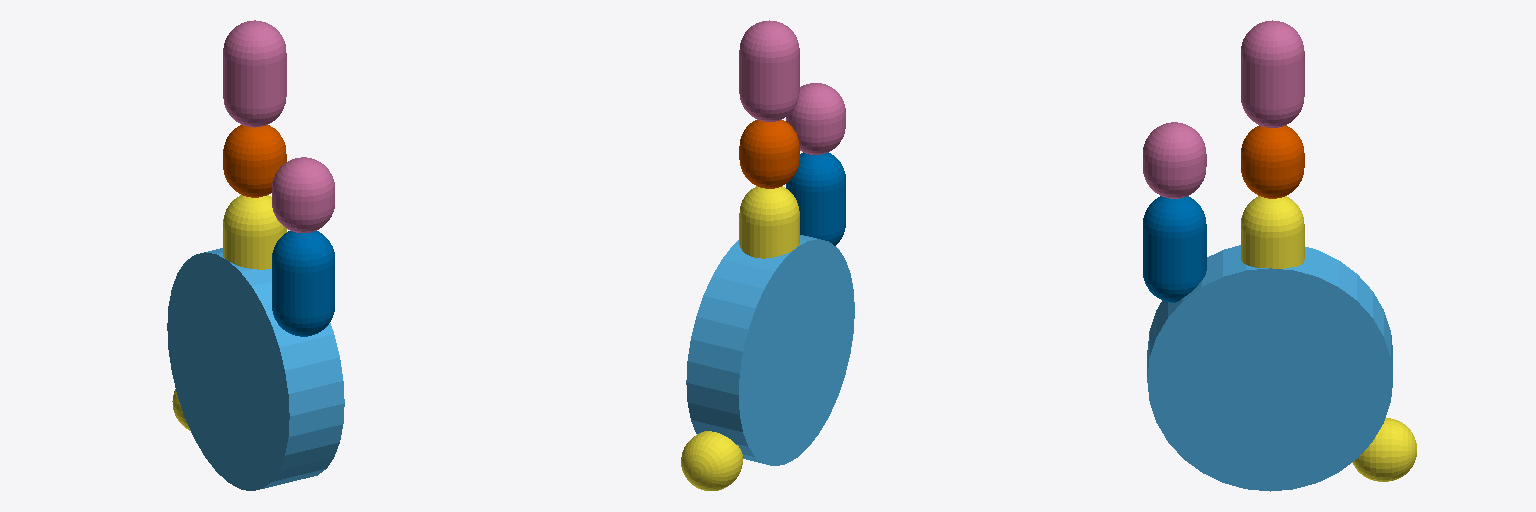
The robot description file, URDF, robot "DexterousHand":
<?xml version="1.0"?>
<robot name="DexterousHand">


    <link name="world"/>
    <joint name="world_to_palm" type="fixed">
        <parent link="world"/>
        <child link="palm"/>
        <origin xyz="0 0 0" rpy="0 0 0"/>
    </joint>
    <link name="palm">
        <inertial>
            <origin xyz="0 0 0.057" rpy="0 0 0"/>
            <mass value="0.30212892864"/>
            <inertia ixx="0.00049080844457568" ixy="0.0" ixz="0.0" iyy="0.00026746366246427523" iyz="0.0" izz="0.00026746366246427523"/>
        </inertial>
        <visual>
            <origin xyz="0 0 0.057" rpy="1.5708 0 1.5708"/>
            <geometry>
                <cylinder radius="0.057" length="0.0296"/>
            </geometry>
            <material name="default"/>
        </visual>
        <collision>
            <origin xyz="0 0 0.057" rpy="1.5708 0 1.5708"/>
            <geometry>
                <cylinder radius="0.057" length="0.0296"/>
            </geometry>
        </collision>
    </link>

    
    <joint name="thumb_joint1" type="revolute">
        <parent link="palm"/>
        <child link="thumb_base"/>
        <origin xyz="0.0029 0.0368 0.0157" rpy="-1.5708 -1.5708 0.0"/>
        <axis xyz="-1 0 0"/>
        <limit lower="-0.349" upper="2.094" effort="1.0" velocity="1.0"/>
    </joint>

    <link name="thumb_base"></link>

    <joint name="thumb_joint2" type="revolute">
        <parent link="thumb_base"/>
        <child link="thumb_proximal"/>
        <origin xyz="0.0 0.0 0.0" rpy="0.0 0.0 0.0"/>
        <axis xyz="0 0 1"/>
        <limit lower="-0.47" upper="2.443" effort="1.0" velocity="1.0"/>
    </joint>

    <link name="thumb_proximal">
        <inertial>
            <origin xyz="0 0 0.01565" rpy="0 0 0"/>
            <mass value="0.021538658803200002"/>
            <inertia ixx="2.9378910096388167e-06" ixy="0.0" ixz="0.0" 
            iyy="2.9378910096388167e-06" iyz="0.0" izz="2.358913912126464e-06"/>
        </inertial>
        <visual>
            <origin xyz="0 0 0.01565" rpy="0 0 0"/>
            <geometry>
                <cylinder radius="0.0148" length="0.0017000000000000001"/>
            </geometry>
            <material name="default"/>
        </visual>
        <visual>
            <origin xyz="0 0 0.0148" rpy="0 0 0"/>
            <geometry>
                <sphere radius="0.0148"/>
            </geometry>
            <material name="default"/>
        </visual>
        <visual>
            <origin xyz="0 0 0.0165" rpy="0 0 0"/>
            <geometry>
                <sphere radius="0.0148"/>
            </geometry>
            <material name="default"/>
        </visual>
        <collision>
            <origin xyz="0 0 0.01565" rpy="0 0 0"/>
            <geometry>
                <cylinder radius="0.0148" length="0.0017000000000000001"/>
            </geometry>
        </collision>
        <collision>
            <origin xyz="0 0 0.0148" rpy="0 0 0"/>
            <geometry>
                <sphere radius="0.0148"/>
            </geometry>
        </collision>
        <collision>
            <origin xyz="0 0 0.0165" rpy="0 0 0"/>
            <geometry>
                <sphere radius="0.0148"/>
            </geometry>
        </collision>
    </link>

    <joint name="thumb_joint3" type="revolute">
        <parent link="thumb_proximal"/>
        <child link="thumb_knuckle"/>
        <origin xyz="0.0 0.0 0.0" rpy="0.0 0.0 0.0"/>
        <axis xyz="1 0 0"/>
        <limit lower="0.0" upper="0.0" effort="1.0" velocity="1.0"/>
    </joint>

    <link name="thumb_knuckle"></link>

    <joint name="thumb_joint4" type="revolute">
        <parent link="thumb_knuckle"/>
        <child link="thumb_middle"/>
        <origin xyz="0 0 0" rpy="0 0 0"/> 
        <axis xyz="0 1 0"/>
        <limit lower="0.0" upper="0.0" effort="1.0" velocity="1.0"/>
    </joint>

    <link name="thumb_middle">
    </link>

    <joint name="thumb_joint5" type="revolute">
        <parent link="thumb_middle"/>
        <child link="thumb_distal"/>
        <origin xyz="0 0 0" rpy="0 0 0"/> 
        <axis xyz="0 1 0"/>
        <limit lower="0.0" upper="0.0" effort="1.0" velocity="1.0"/>
    </joint>

    <link name="thumb_distal">
    </link>

    
    <joint name="index_joint1" type="revolute">
        <parent link="palm"/>
        <child link="index_proximal"/>
        <origin xyz="0.0 0.0 0.0" rpy="0.0 0.0 0.0"/>
        <axis xyz="1 0 0"/>
        <limit lower="0.0" upper="0.0" effort="1.0" velocity="1.0"/>
    </joint>

    <link name="index_proximal">
    </link>

    <joint name="index_joint2" type="revolute">
        <parent link="index_proximal"/>
        <child link="index_dummy"/>
        <origin xyz="0.0 0.0 0.0" rpy="0.0 0.0 0.0"/>
        <axis xyz="0 1 0"/>
        <limit lower="0.0" upper="0.0" effort="1.0" velocity="1.0"/>
    </joint>

    <link name="index_dummy"></link>

    <joint name="index_joint3" type="revolute">
        <parent link="index_dummy"/>
        <child link="index_middle"/>
        <origin xyz="0 0 0" rpy="0 0 0"/>
        <axis xyz="0 1 0"/>
        <limit lower="0.0" upper="0.0" effort="1.0" velocity="1.0"/>
    </joint>

    <link name="index_middle">
    </link>

    <joint name="index_joint4" type="revolute">
        <parent link="index_middle"/>
        <child link="index_distal"/>
        <origin xyz="0 0 0" rpy="0 0 0"/> 
        <axis xyz="0 1 0"/>
        <limit lower="0.0" upper="0.0" effort="1.0" velocity="1.0"/>
    </joint>

    <link name="index_distal">
    </link>

    
    <joint name="middle_joint1" type="revolute">
        <parent link="palm"/>
        <child link="middle_proximal"/>
        <origin xyz="0.0 0.0011 0.091" rpy="0.0 0.0 0.0"/>
        <axis xyz="0 1 0"/>
        <limit lower="-0.314" upper="2.23" effort="1.0" velocity="1.0"/>
    </joint>

    <link name="middle_proximal">
        <inertial>
            <origin xyz="0 0 0.02655" rpy="0 0 0"/>
            <mass value="0.036540024998400006"/>
            <inertia ixx="1.058665009272394e-05" ixy="0.0" ixz="0.0" 
            iyy="1.058665009272394e-05" iyz="0.0" izz="4.001863537824769e-06"/>
        </inertial>
        <visual>
            <origin xyz="0 0 0.02655" rpy="0 0 0"/>
            <geometry>
                <cylinder radius="0.0148" length="0.0235"/>
            </geometry>
            <material name="default"/>
        </visual>
        <visual>
            <origin xyz="0 0 0.0148" rpy="0 0 0"/>
            <geometry>
                <sphere radius="0.0148"/>
            </geometry>
            <material name="default"/>
        </visual>
        <visual>
            <origin xyz="0 0 0.0383" rpy="0 0 0"/>
            <geometry>
                <sphere radius="0.0148"/>
            </geometry>
            <material name="default"/>
        </visual>
        <collision>
            <origin xyz="0 0 0.02655" rpy="0 0 0"/>
            <geometry>
                <cylinder radius="0.0148" length="0.0235"/>
            </geometry>
        </collision>
        <collision>
            <origin xyz="0 0 0.0148" rpy="0 0 0"/>
            <geometry>
                <sphere radius="0.0148"/>
            </geometry>
        </collision>
        <collision>
            <origin xyz="0 0 0.0383" rpy="0 0 0"/>
            <geometry>
                <sphere radius="0.0148"/>
            </geometry>
        </collision>
    </link>

    <joint name="middle_joint2" type="revolute">
        <parent link="middle_proximal"/>
        <child link="middle_dummy"/>
        <origin xyz="0.0 0.0 0.038" rpy="0.0 0.0 0.0"/>
        <axis xyz="1 0 0"/>
        <limit lower="-1.047" upper="1.047" effort="1.0" velocity="1.0"/>
    </joint>

    <link name="middle_dummy"></link>

    <joint name="middle_joint3" type="revolute">
        <parent link="middle_dummy"/>
        <child link="middle_middle"/>
        <origin xyz="0 0 0.015100000000000002" rpy="0 0 0"/>
        <axis xyz="0 1 0"/>
        <limit lower="-0.506" upper="1.885" effort="1.0" velocity="1.0"/>
    </joint>

    <link name="middle_middle">
        <inertial>
            <origin xyz="0 0 0.01805" rpy="0 0 0"/>
            <mass value="0.0248417119104"/>
            <inertia ixx="4.058162759109537e-06" ixy="0.0" ixz="0.0" 
            iyy="4.058162759109537e-06" iyz="0.0" izz="2.7206642884270085e-06"/>
        </inertial>
        <visual>
            <origin xyz="0 0 0.01805" rpy="0 0 0"/>
            <geometry>
                <cylinder radius="0.0148" length="0.006499999999999999"/>
            </geometry>
            <material name="default"/>
        </visual>
        <visual>
            <origin xyz="0 0 0.0148" rpy="0 0 0"/>
            <geometry>
                <sphere radius="0.0148"/>
            </geometry>
            <material name="default"/>
        </visual>
        <visual>
            <origin xyz="0 0 0.0213" rpy="0 0 0"/>
            <geometry>
                <sphere radius="0.0148"/>
            </geometry>
            <material name="default"/>
        </visual>
        <collision>
            <origin xyz="0 0 0.01805" rpy="0 0 0"/>
            <geometry>
                <cylinder radius="0.0148" length="0.006499999999999999"/>
            </geometry>
        </collision>
        <collision>
            <origin xyz="0 0 0.0148" rpy="0 0 0"/>
            <geometry>
                <sphere radius="0.0148"/>
            </geometry>
        </collision>
        <collision>
            <origin xyz="0 0 0.0213" rpy="0 0 0"/>
            <geometry>
                <sphere radius="0.0148"/>
            </geometry>
        </collision>
    </link>

    <joint name="middle_joint4" type="revolute">
        <parent link="middle_middle"/>
        <child link="middle_distal"/>
        <origin xyz="0 0 0.0361" rpy="0 0 0"/> 
        <axis xyz="0 1 0"/>
        <limit lower="-0.366" upper="2.042" effort="1.0" velocity="1.0"/>
    </joint>

    <link name="middle_distal">
        <inertial>
            <origin xyz="0 0 0.026" rpy="0 0 0"/>
            <mass value="0.035783075328"/>
            <inertia ixx="1.002260084553728e-05" ixy="0.0" ixz="0.0" 
            iyy="1.002260084553728e-05" iyz="0.0" izz="3.91896240992256e-06"/>
        </inertial>
        <visual>
            <origin xyz="0 0 0.026" rpy="0 0 0"/>
            <geometry>
                <cylinder radius="0.0148" length="0.022399999999999996"/>
            </geometry>
            <material name="default"/>
        </visual>
        <visual>
            <origin xyz="0 0 0.0148" rpy="0 0 0"/>
            <geometry>
                <sphere radius="0.0148"/>
            </geometry>
            <material name="default"/>
        </visual>
        <visual>
            <origin xyz="0 0 0.0372" rpy="0 0 0"/>
            <geometry>
                <sphere radius="0.0148"/>
            </geometry>
            <material name="default"/>
        </visual>
        <collision>
            <origin xyz="0 0 0.026" rpy="0 0 0"/>
            <geometry>
                <cylinder radius="0.0148" length="0.022399999999999996"/>
            </geometry>
        </collision>
        <collision>
            <origin xyz="0 0 0.0148" rpy="0 0 0"/>
            <geometry>
                <sphere radius="0.0148"/>
            </geometry>
        </collision>
        <collision>
            <origin xyz="0 0 0.0372" rpy="0 0 0"/>
            <geometry>
                <sphere radius="0.0148"/>
            </geometry>
        </collision>
    </link>

    
    <joint name="ring_joint1" type="revolute">
        <parent link="palm"/>
        <child link="ring_proximal"/>
        <origin xyz="0.0 0.0 0.0" rpy="0.0 0.0 0.0"/>
        <axis xyz="1 0 0"/>
        <limit lower="0.0" upper="0.0" effort="1.0" velocity="1.0"/>
    </joint>

    <link name="ring_proximal">
    </link>

    <joint name="ring_joint2" type="revolute">
        <parent link="ring_proximal"/>
        <child link="ring_dummy"/>
        <origin xyz="0.0 0.0 0.0" rpy="0.0 0.0 0.0"/>
        <axis xyz="0 1 0"/>
        <limit lower="0.0" upper="0.0" effort="1.0" velocity="1.0"/>
    </joint>

    <link name="ring_dummy"></link>

    <joint name="ring_joint3" type="revolute">
        <parent link="ring_dummy"/>
        <child link="ring_middle"/>
        <origin xyz="0 0 0" rpy="0 0 0"/>
        <axis xyz="0 1 0"/>
        <limit lower="0.0" upper="0.0" effort="1.0" velocity="1.0"/>
    </joint>

    <link name="ring_middle">
    </link>

    <joint name="ring_joint4" type="revolute">
        <parent link="ring_middle"/>
        <child link="ring_distal"/>
        <origin xyz="0 0 0" rpy="0 0 0"/> 
        <axis xyz="0 1 0"/>
        <limit lower="0.0" upper="0.0" effort="1.0" velocity="1.0"/>
    </joint>

    <link name="ring_distal">
    </link>

    
    <joint name="little_joint0" type="revolute">
        <parent link="palm"/>
        <child link="little_base"/>
        <origin xyz="0.0 0.0 0.0" rpy="0.0 0.0 0.0"/>
        <axis xyz="0 1 0"/>
        <limit lower="0.0" upper="0.0" effort="1.0" velocity="1.0"/>
    </joint>

    <link name="little_base"></link>

    <joint name="little_joint1" type="revolute">
        <parent link="little_base"/>
        <child link="little_proximal"/>
        <origin xyz="0.0 -0.0443 0.091" rpy="-0.0 -0.0 -0.0"/>
        <axis xyz="0 1 0"/>
        <limit lower="-0.314" upper="2.23" effort="1.0" velocity="1.0"/>
    </joint>

    <link name="little_proximal">
        <inertial>
            <origin xyz="0 0 0.02655" rpy="0 0 0"/>
            <mass value="0.036540024998400006"/>
            <inertia ixx="1.058665009272394e-05" ixy="0.0" ixz="0.0" 
            iyy="1.058665009272394e-05" iyz="0.0" izz="4.001863537824769e-06"/>
        </inertial>
        <visual>
            <origin xyz="0 0 0.02655" rpy="0 0 0"/>
            <geometry>
                <cylinder radius="0.0148" length="0.0235"/>
            </geometry>
            <material name="default"/>
        </visual>
        <visual>
            <origin xyz="0 0 0.0148" rpy="0 0 0"/>
            <geometry>
                <sphere radius="0.0148"/>
            </geometry>
            <material name="default"/>
        </visual>
        <visual>
            <origin xyz="0 0 0.0383" rpy="0 0 0"/>
            <geometry>
                <sphere radius="0.0148"/>
            </geometry>
            <material name="default"/>
        </visual>
        <collision>
            <origin xyz="0 0 0.02655" rpy="0 0 0"/>
            <geometry>
                <cylinder radius="0.0148" length="0.0235"/>
            </geometry>
        </collision>
        <collision>
            <origin xyz="0 0 0.0148" rpy="0 0 0"/>
            <geometry>
                <sphere radius="0.0148"/>
            </geometry>
        </collision>
        <collision>
            <origin xyz="0 0 0.0383" rpy="0 0 0"/>
            <geometry>
                <sphere radius="0.0148"/>
            </geometry>
        </collision>
    </link>

    <joint name="little_joint2" type="revolute">
        <parent link="little_proximal"/>
        <child link="little_dummy"/>
        <origin xyz="0.0 0.0 0.038" rpy="0.0 0.0 0.0"/>
        <axis xyz="1 0 0"/>
        <limit lower="-1.047" upper="1.047" effort="1.0" velocity="1.0"/>
    </joint>

    <link name="little_dummy"></link>

    <joint name="little_joint3" type="revolute">
        <parent link="little_dummy"/>
        <child link="little_middle"/>
        <origin xyz="0 0 0.015100000000000002" rpy="0 0 0"/>
        <axis xyz="0 1 0"/>
        <limit lower="-0.506" upper="1.885" effort="1.0" velocity="1.0"/>
    </joint>

    <link name="little_middle">
        <inertial>
            <origin xyz="0 0 0.01805" rpy="0 0 0"/>
            <mass value="0.0248417119104"/>
            <inertia ixx="4.058162759109537e-06" ixy="0.0" ixz="0.0" 
            iyy="4.058162759109537e-06" iyz="0.0" izz="2.7206642884270085e-06"/>
        </inertial>
        <visual>
            <origin xyz="0 0 0.01805" rpy="0 0 0"/>
            <geometry>
                <cylinder radius="0.0148" length="0.006499999999999999"/>
            </geometry>
            <material name="default"/>
        </visual>
        <visual>
            <origin xyz="0 0 0.0148" rpy="0 0 0"/>
            <geometry>
                <sphere radius="0.0148"/>
            </geometry>
            <material name="default"/>
        </visual>
        <visual>
            <origin xyz="0 0 0.0213" rpy="0 0 0"/>
            <geometry>
                <sphere radius="0.0148"/>
            </geometry>
            <material name="default"/>
        </visual>
        <collision>
            <origin xyz="0 0 0.01805" rpy="0 0 0"/>
            <geometry>
                <cylinder radius="0.0148" length="0.006499999999999999"/>
            </geometry>
        </collision>
        <collision>
            <origin xyz="0 0 0.0148" rpy="0 0 0"/>
            <geometry>
                <sphere radius="0.0148"/>
            </geometry>
        </collision>
        <collision>
            <origin xyz="0 0 0.0213" rpy="0 0 0"/>
            <geometry>
                <sphere radius="0.0148"/>
            </geometry>
        </collision>
    </link>

    <joint name="little_joint4" type="revolute">
        <parent link="little_middle"/>
        <child link="little_distal"/>
        <origin xyz="0 0 0.0361" rpy="0 0 0"/>
        <axis xyz="0 1 0"/>
        <limit lower="0.0" upper="0.0" effort="1.0" velocity="1.0"/>
    </joint>

    <link name="little_distal">
    </link>

</robot>

--- What the picture shows (computed from the rendered views, not written in the file) ---
3 views of the same robot in one strip: view 1: azimuth 30°, elevation 25°; view 2: azimuth 150°, elevation 25°; view 3: azimuth 270°, elevation 25° (orthographic).
Robot: DexterousHand — 24 links, 23 joints (22 revolute, 1 fixed); root link world; default pose: every joint at zero.
Visible links, largest first — view 1: palm, middle_distal, little_proximal, little_middle, middle_middle, middle_proximal; view 2: palm, middle_distal, little_proximal, middle_proximal, middle_middle, little_middle, thumb_proximal; view 3: palm, middle_distal, little_proximal, middle_proximal, little_middle, middle_middle, thumb_proximal.
Boxes of the visible links, left/top/right/bottom form: palm: left=167, top=248, right=344, bottom=490; middle_distal: left=223, top=20, right=286, bottom=127; little_proximal: left=272, top=231, right=334, bottom=336; little_middle: left=272, top=157, right=334, bottom=232; middle_middle: left=223, top=125, right=286, bottom=197; middle_proximal: left=223, top=195, right=286, bottom=269; palm: left=686, top=235, right=854, bottom=465; middle_distal: left=739, top=20, right=799, bottom=121; little_proximal: left=786, top=152, right=845, bottom=245; middle_proximal: left=739, top=186, right=799, bottom=258; middle_middle: left=739, top=120, right=799, bottom=188; little_middle: left=786, top=83, right=845, bottom=154; thumb_proximal: left=681, top=431, right=742, bottom=490; palm: left=1147, top=245, right=1392, bottom=491; middle_distal: left=1241, top=20, right=1304, bottom=127; little_proximal: left=1143, top=196, right=1206, bottom=302; middle_proximal: left=1241, top=196, right=1304, bottom=268; little_middle: left=1143, top=122, right=1206, bottom=198; middle_middle: left=1241, top=125, right=1304, bottom=198; thumb_proximal: left=1352, top=418, right=1416, bottom=481.
Size in the robot's own frame: 0.0325 by 0.1272 by 0.2322 metres.
Geometry: primitives only (box / cylinder / sphere), no mesh files.
